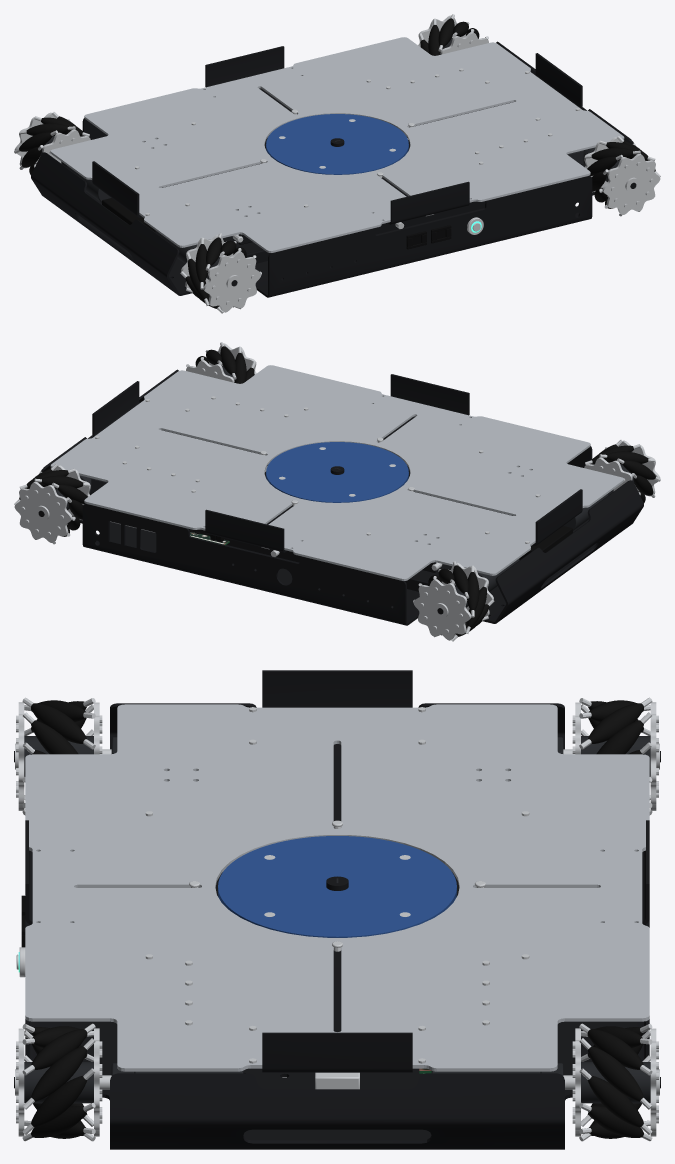
The model's file is robot.glb.
3 views of the same model, one above another, from view 1: azimuth 30°, elevation 25°; view 2: azimuth 150°, elevation 25°; view 3: azimuth 270°, elevation 25° (orthographic). The views are drawn at different scales.
Visible parts, largest first — view 1: Plate, Tray, HubDisc, Wheel_RR_mesh, Wheel_FR_mesh, Wheel_RL_mesh, Gripper_YN, Gripper_YP, Wheel_FL_mesh, Gripper_XN, Gripper_XP, Drive (+2 smaller); view 2: Plate, Tray, HubDisc, Wheel_RL_mesh, Wheel_FL_mesh, Wheel_RR_mesh, Gripper_YP, Gripper_YN, Wheel_FR_mesh, Gripper_XN, Gripper_XP, Drive (+1 smaller); view 3: Plate, Tray, HubDisc, Wheel_FL_mesh, Wheel_FR_mesh, Gripper_XP, Gripper_XN, Wheel_RL_mesh, Wheel_RR_mesh, Drive, PlateScrews.
Part boxes in pixels (<box>): Plate: <box>50,37,624,252</box>; Tray: <box>31,41,635,297</box>; HubDisc: <box>266,114,408,174</box>; Wheel_RR_mesh: <box>180,233,261,313</box>; Wheel_FR_mesh: <box>584,136,660,216</box>; Wheel_RL_mesh: <box>14,112,90,174</box>; Gripper_YN: <box>381,177,469,224</box>; Gripper_YP: <box>205,46,291,111</box>; Wheel_FL_mesh: <box>418,14,488,55</box>; Gripper_XN: <box>92,161,260,217</box>; Gripper_XP: <box>407,53,582,137</box>; Drive: <box>61,147,595,263</box>; Plate: <box>50,365,624,580</box>; Tray: <box>39,369,643,625</box>; HubDisc: <box>266,442,408,502</box>; Wheel_RL_mesh: <box>413,561,494,641</box>; Wheel_FL_mesh: <box>14,464,90,544</box>; Wheel_RR_mesh: <box>584,440,660,502</box>; Gripper_YP: <box>205,505,293,552</box>; Gripper_YN: <box>383,374,469,439</box>; Wheel_FR_mesh: <box>186,342,256,383</box>; Gripper_XN: <box>414,489,582,545</box>; Gripper_XP: <box>92,381,267,465</box>; Drive: <box>79,475,613,591</box>; Plate: <box>25,704,649,1071</box>; Tray: <box>25,703,649,1149</box>; HubDisc: <box>218,836,456,937</box>; Wheel_FL_mesh: <box>572,1023,660,1141</box>; Wheel_FR_mesh: <box>14,1023,102,1141</box>; Gripper_XP: <box>262,950,412,1072</box>; Gripper_XN: <box>262,670,412,820</box>; Wheel_RL_mesh: <box>572,697,660,815</box>; Wheel_RR_mesh: <box>14,697,102,815</box>; Drive: <box>99,737,575,1089</box>; PlateScrews: <box>145,707,529,1063</box>.
Bounding box in the file's own units: 0.4906 × 0.0697 × 0.344.
Materials: 13 (2 with a texture image).
